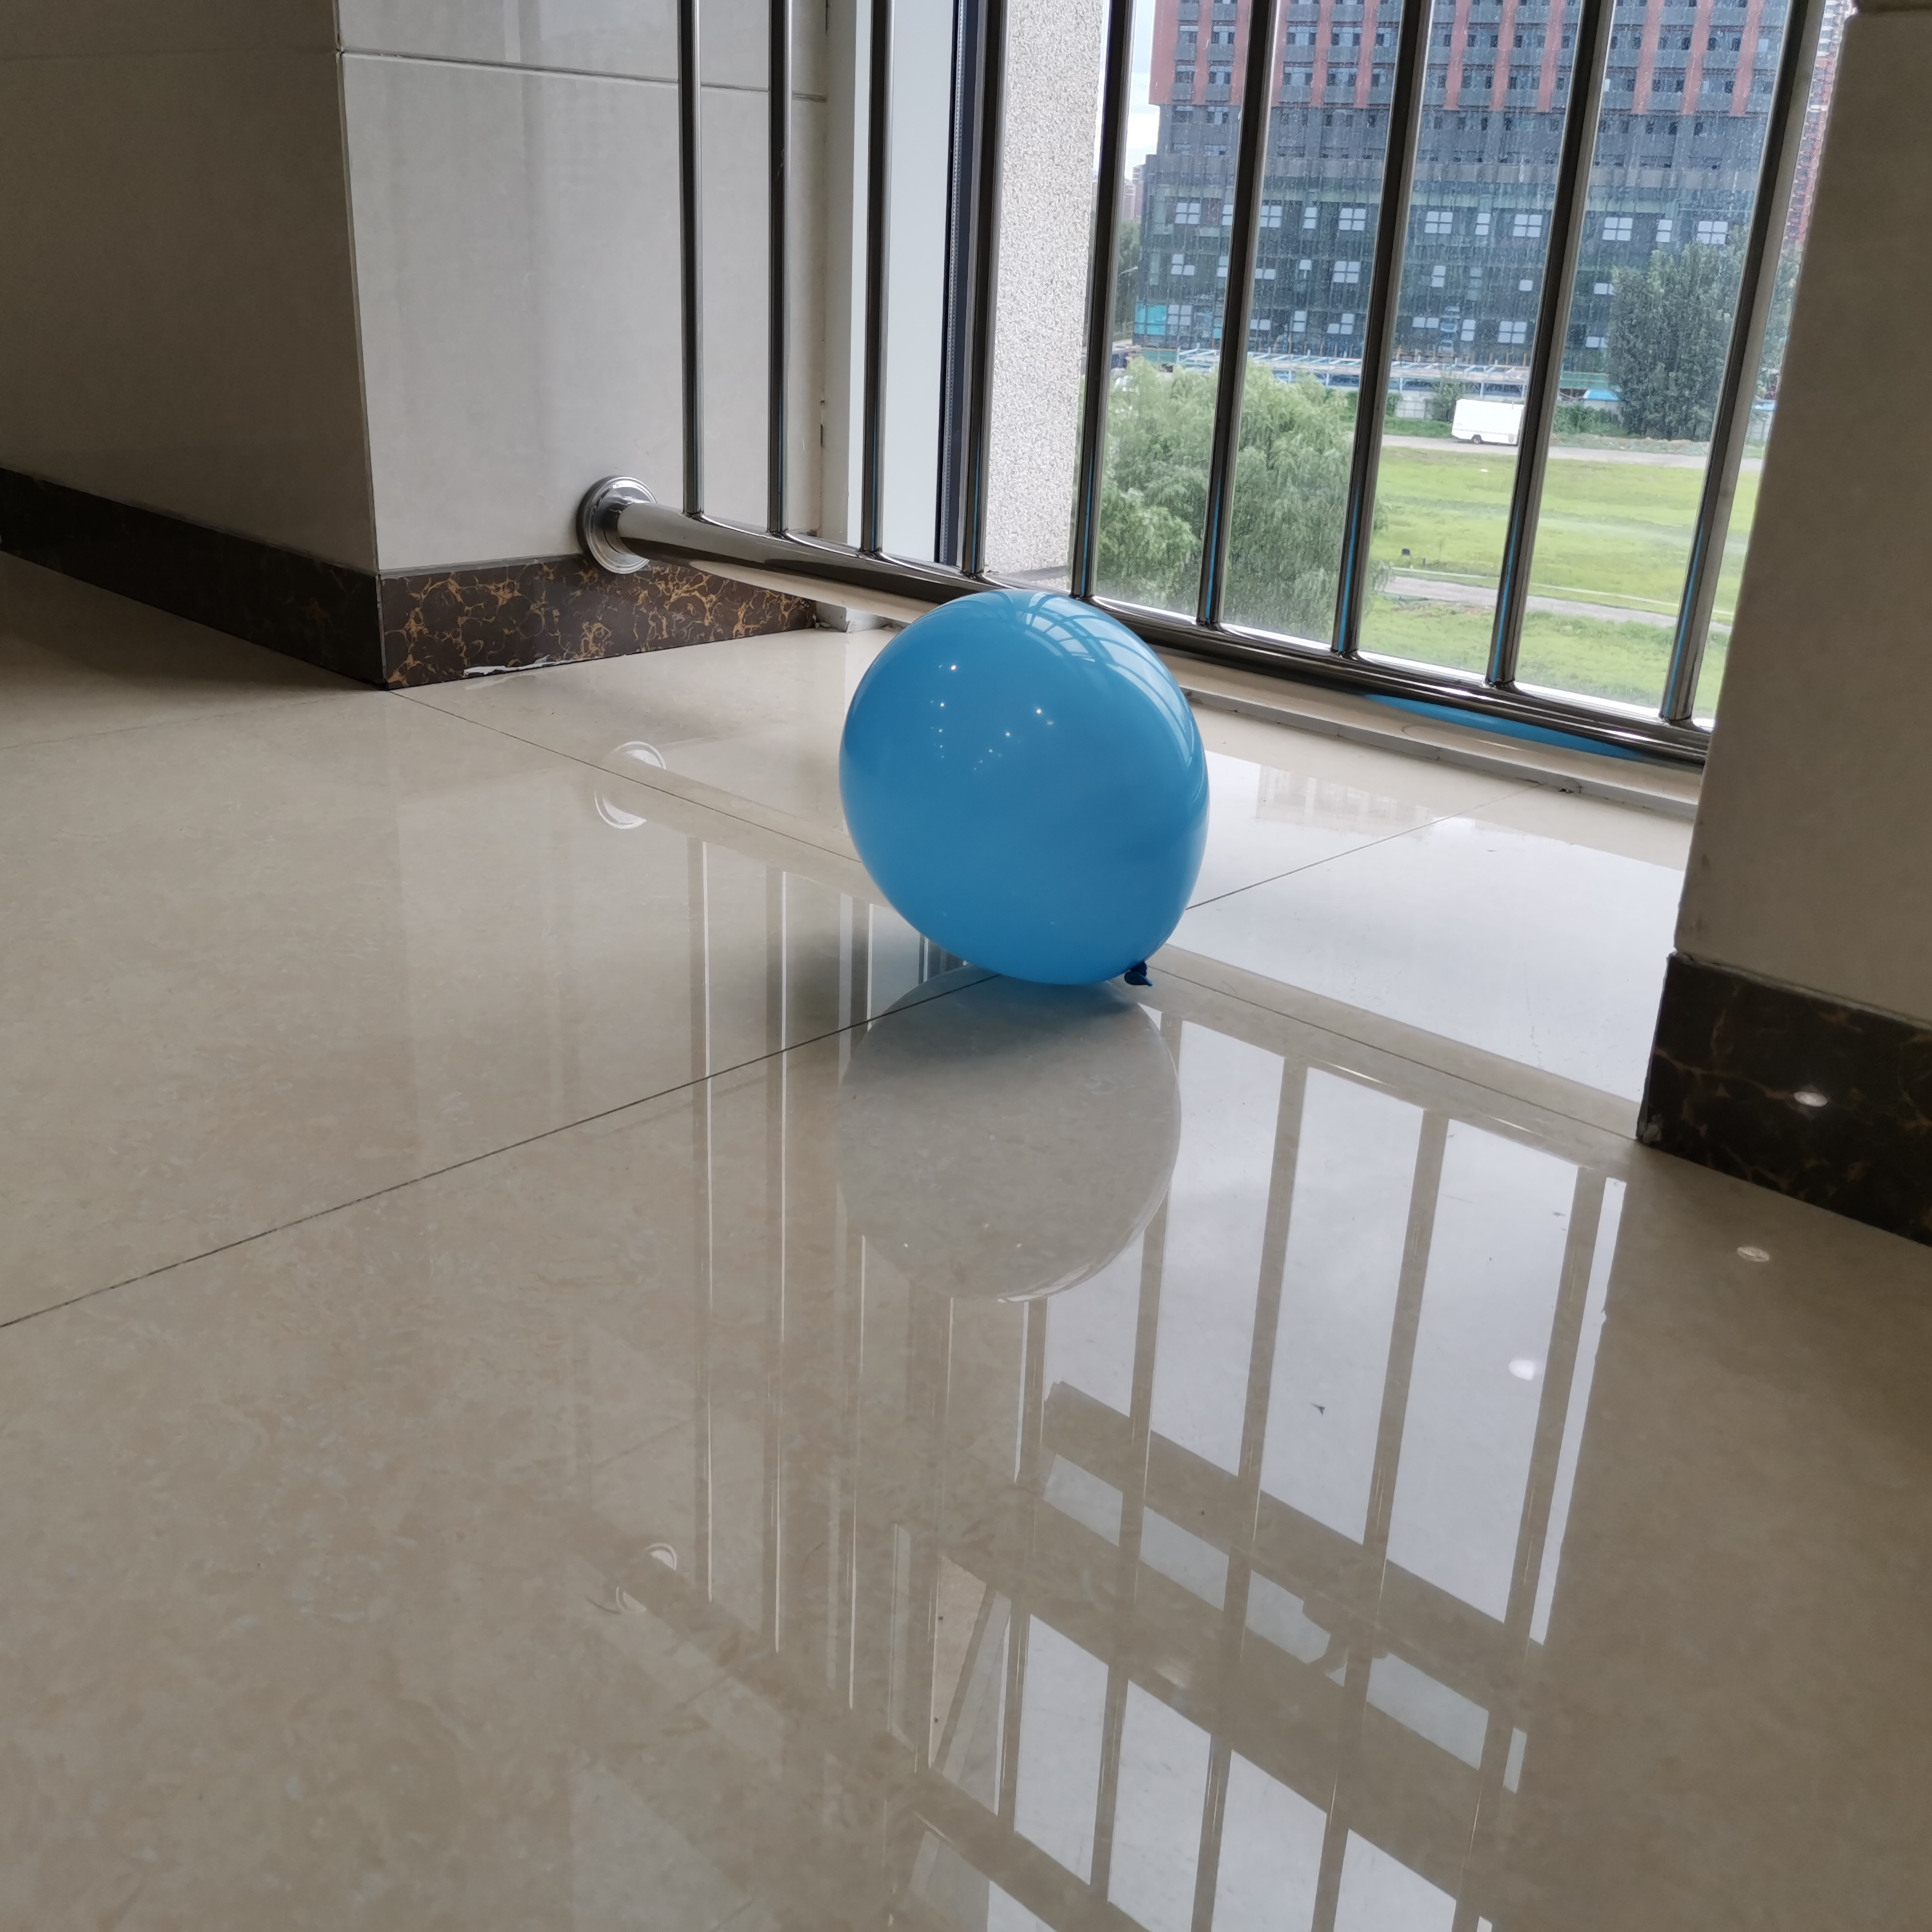balloon: (837, 587, 1207, 980)
